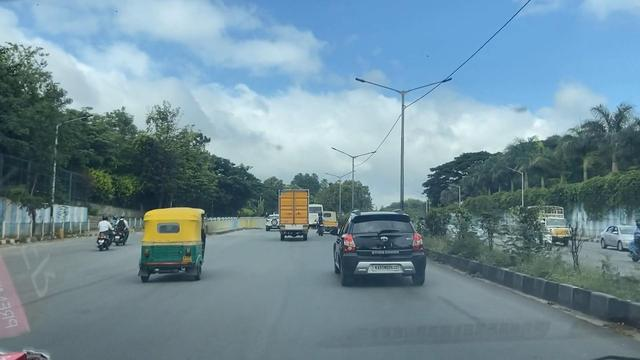HMV: (280, 189, 313, 238)
LMV: (332, 206, 430, 292), (142, 208, 209, 279)
